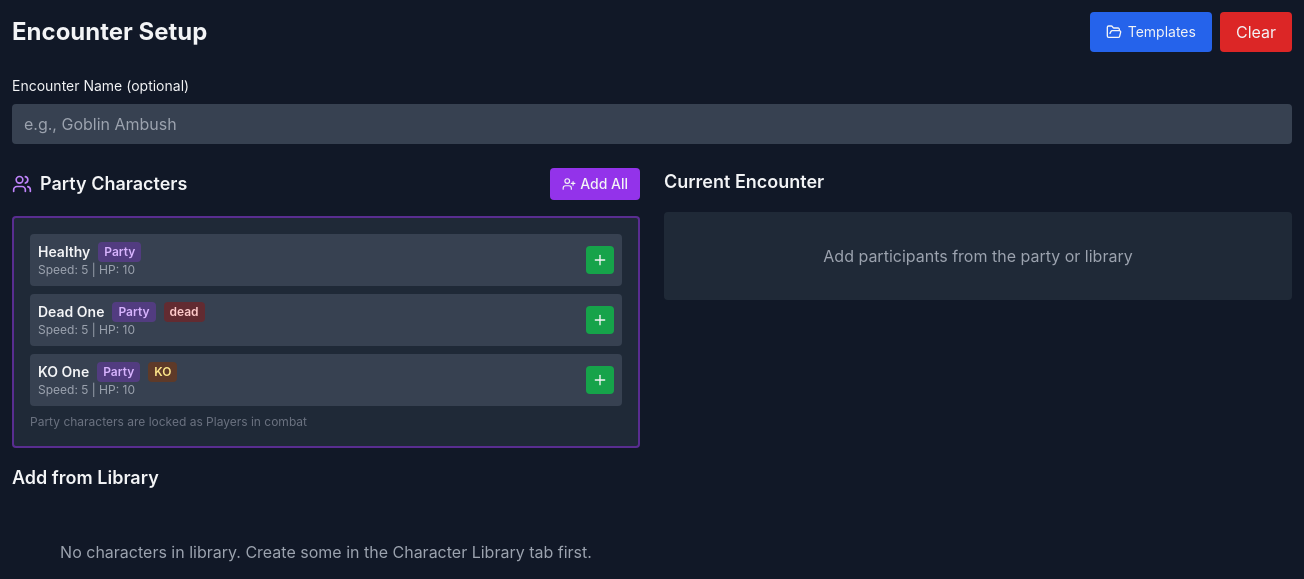
Test: EncounterSetup › skips dead and unconscious party characters in Add All while leaving individual add enabled
Expected: the text "dead" is shown, left=164, top=302, right=205, bottom=322
Expected: the text "KO" is shown, left=148, top=362, right=178, bottom=382
Step 1. Click the button titled "Add all party characters to encounter" → x=595, y=184, box left=550, top=168, right=640, bottom=200
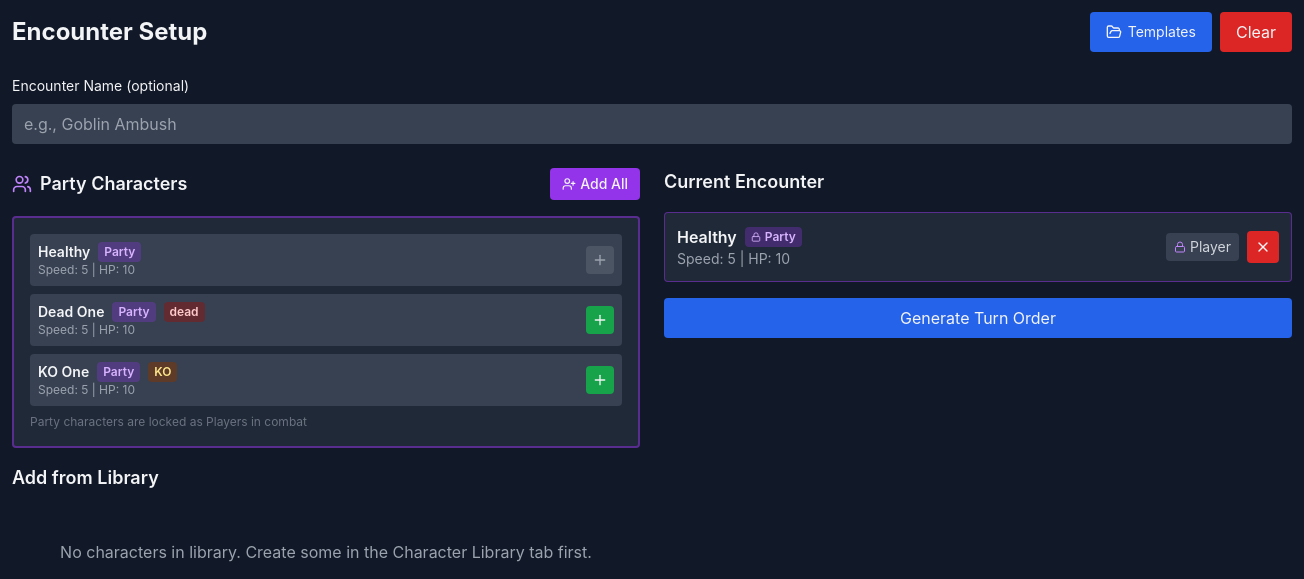
Expected: the text "Dead One" is shown once, left=38, top=302, right=205, bottom=322
Expected: the text "Healthy" is shown 2 times, left=38, top=242, right=141, bottom=262; left=677, top=227, right=802, bottom=247
